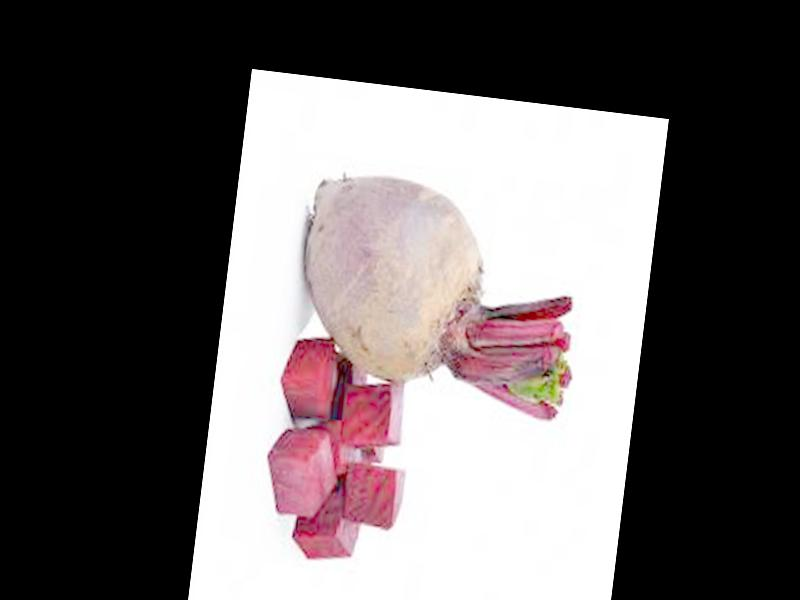Beet: (287, 169, 590, 422)
